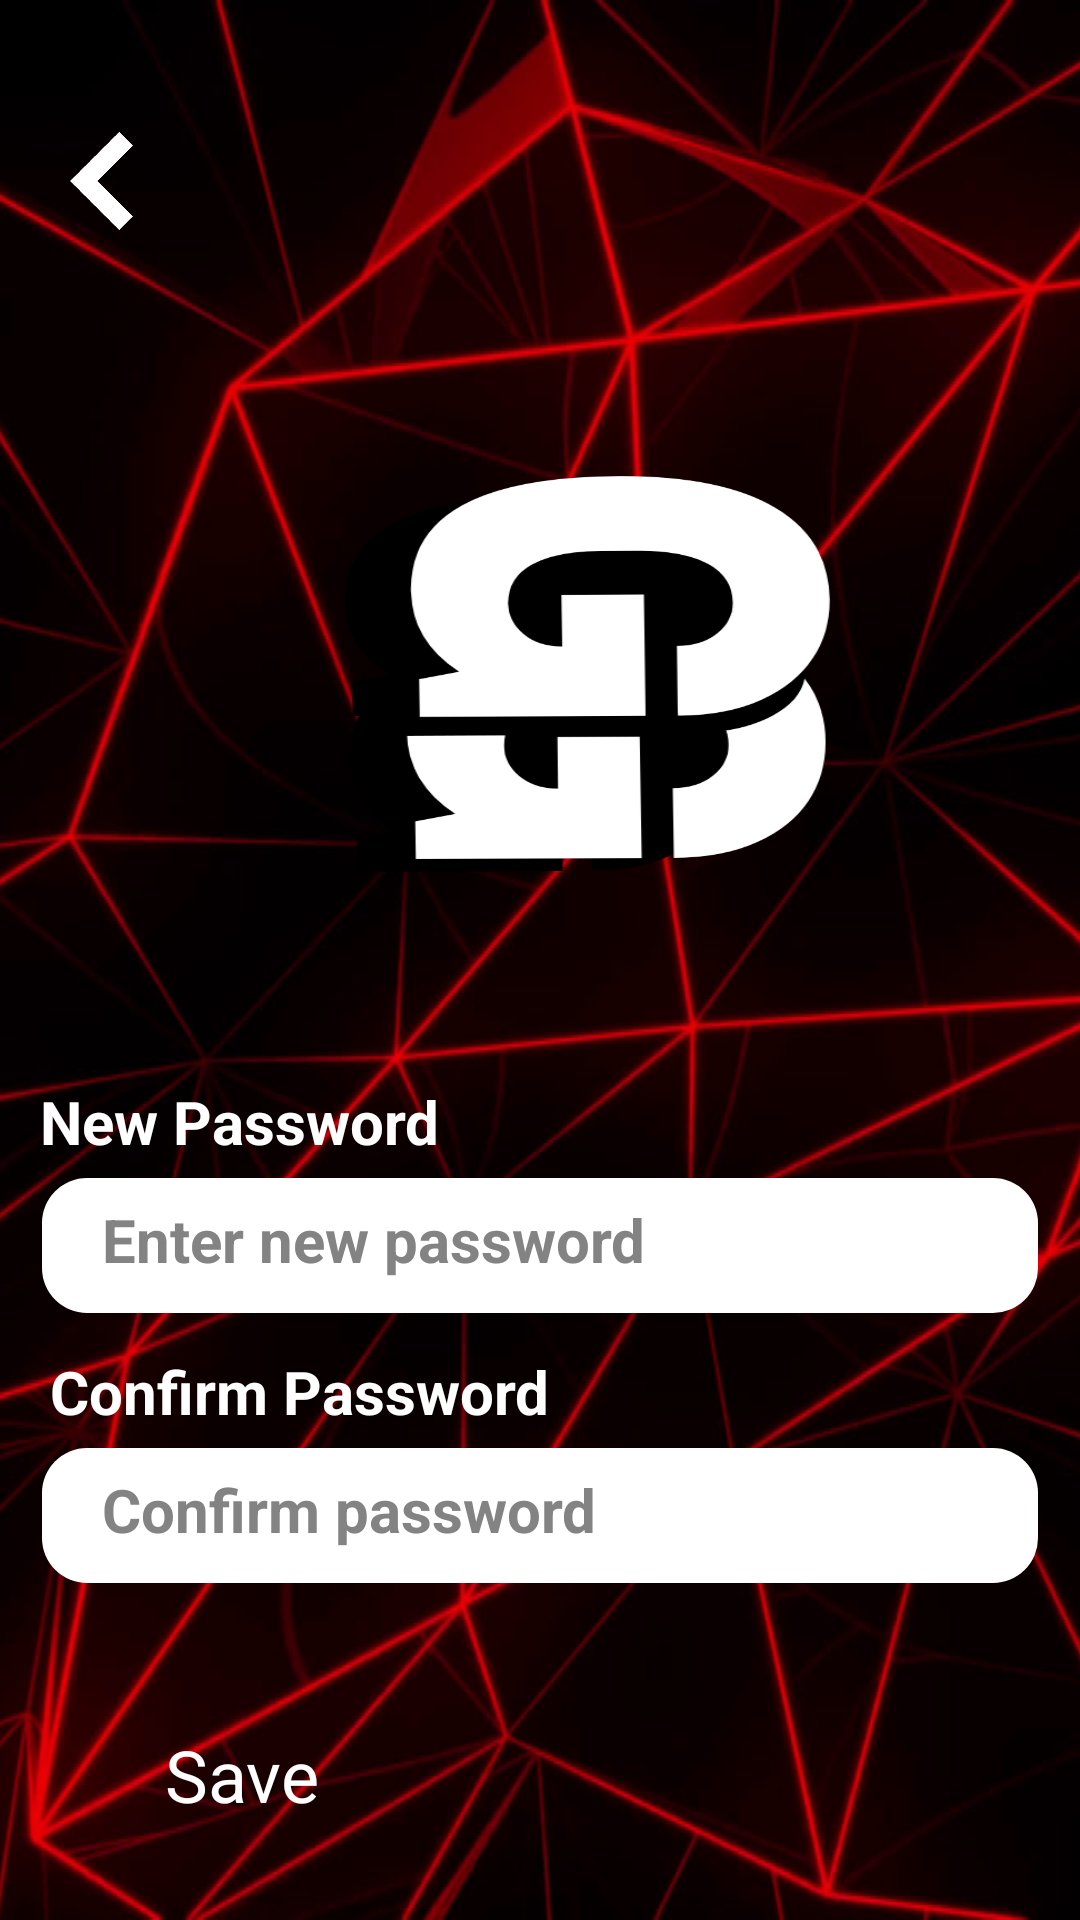

Where to tap for icons on this 1080w x 1920h app screen, as (x,y):
back arrow: (101,181)
